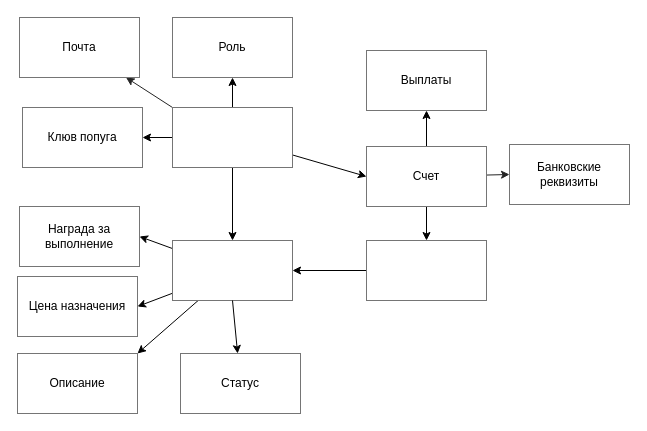
This 647x431 diagram has some shape labels left out. The shapes that lost their labels are listed below. From the top down, each one's centre as x and y in pixels, then its label:
At point (232, 137): "Аккаунт".
At point (232, 270): "Задача".
At point (426, 270): "Аудит-лог".
